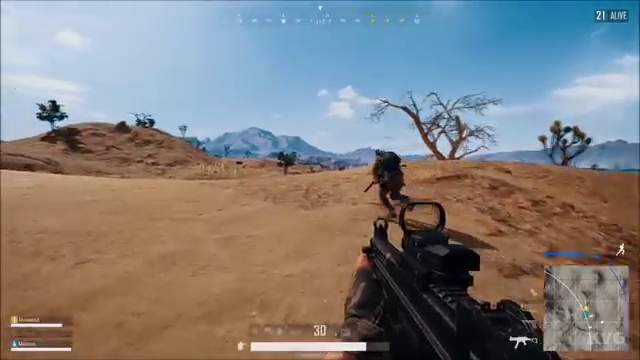Player: (354, 142, 426, 208)
